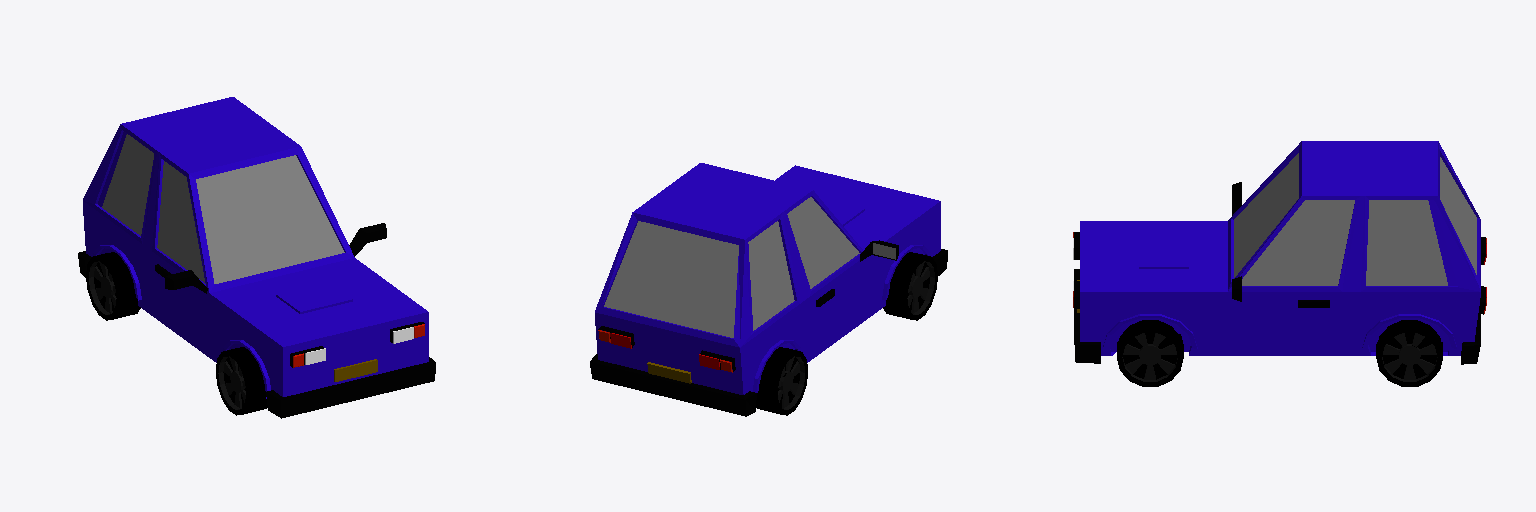
The model's file is Car.obj.
3 renders of one model, left to right at view 1: azimuth 30°, elevation 25°; view 2: azimuth 150°, elevation 25°; view 3: azimuth 270°, elevation 25°, orthographic.
Visible parts, largest first — view 1: Car_Body, Back_Tire, Front_Tire; view 2: Car_Body, Front_Tire, Back_Tire; view 3: Car_Body, Front_Tire, Back_Tire, Back, Front.
Boxes of the visible parts, <box> form: Car_Body: <box>78,97,435,418</box>; Back_Tire: <box>86,252,140,320</box>; Front_Tire: <box>216,347,267,415</box>; Car_Body: <box>590,163,947,416</box>; Front_Tire: <box>883,252,937,320</box>; Back_Tire: <box>756,347,807,415</box>; Car_Body: <box>1073,141,1486,364</box>; Front_Tire: <box>1117,320,1183,386</box>; Back_Tire: <box>1376,320,1442,386</box>; Back: <box>1362,314,1456,348</box>; Front: <box>1103,314,1197,348</box>.
Bounding box in the file's own units: 6.04 × 4.61 × 9.87.